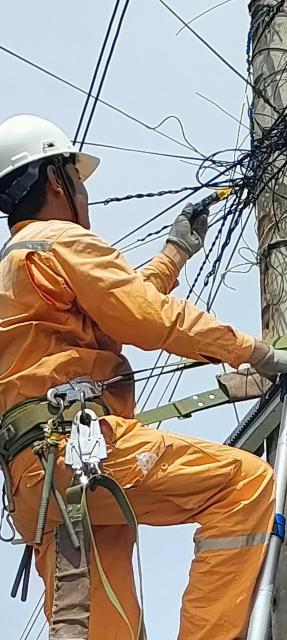gloves: (152, 196, 239, 252), (247, 336, 287, 399)
harness: (2, 372, 237, 448)
helmet: (0, 101, 104, 200)
